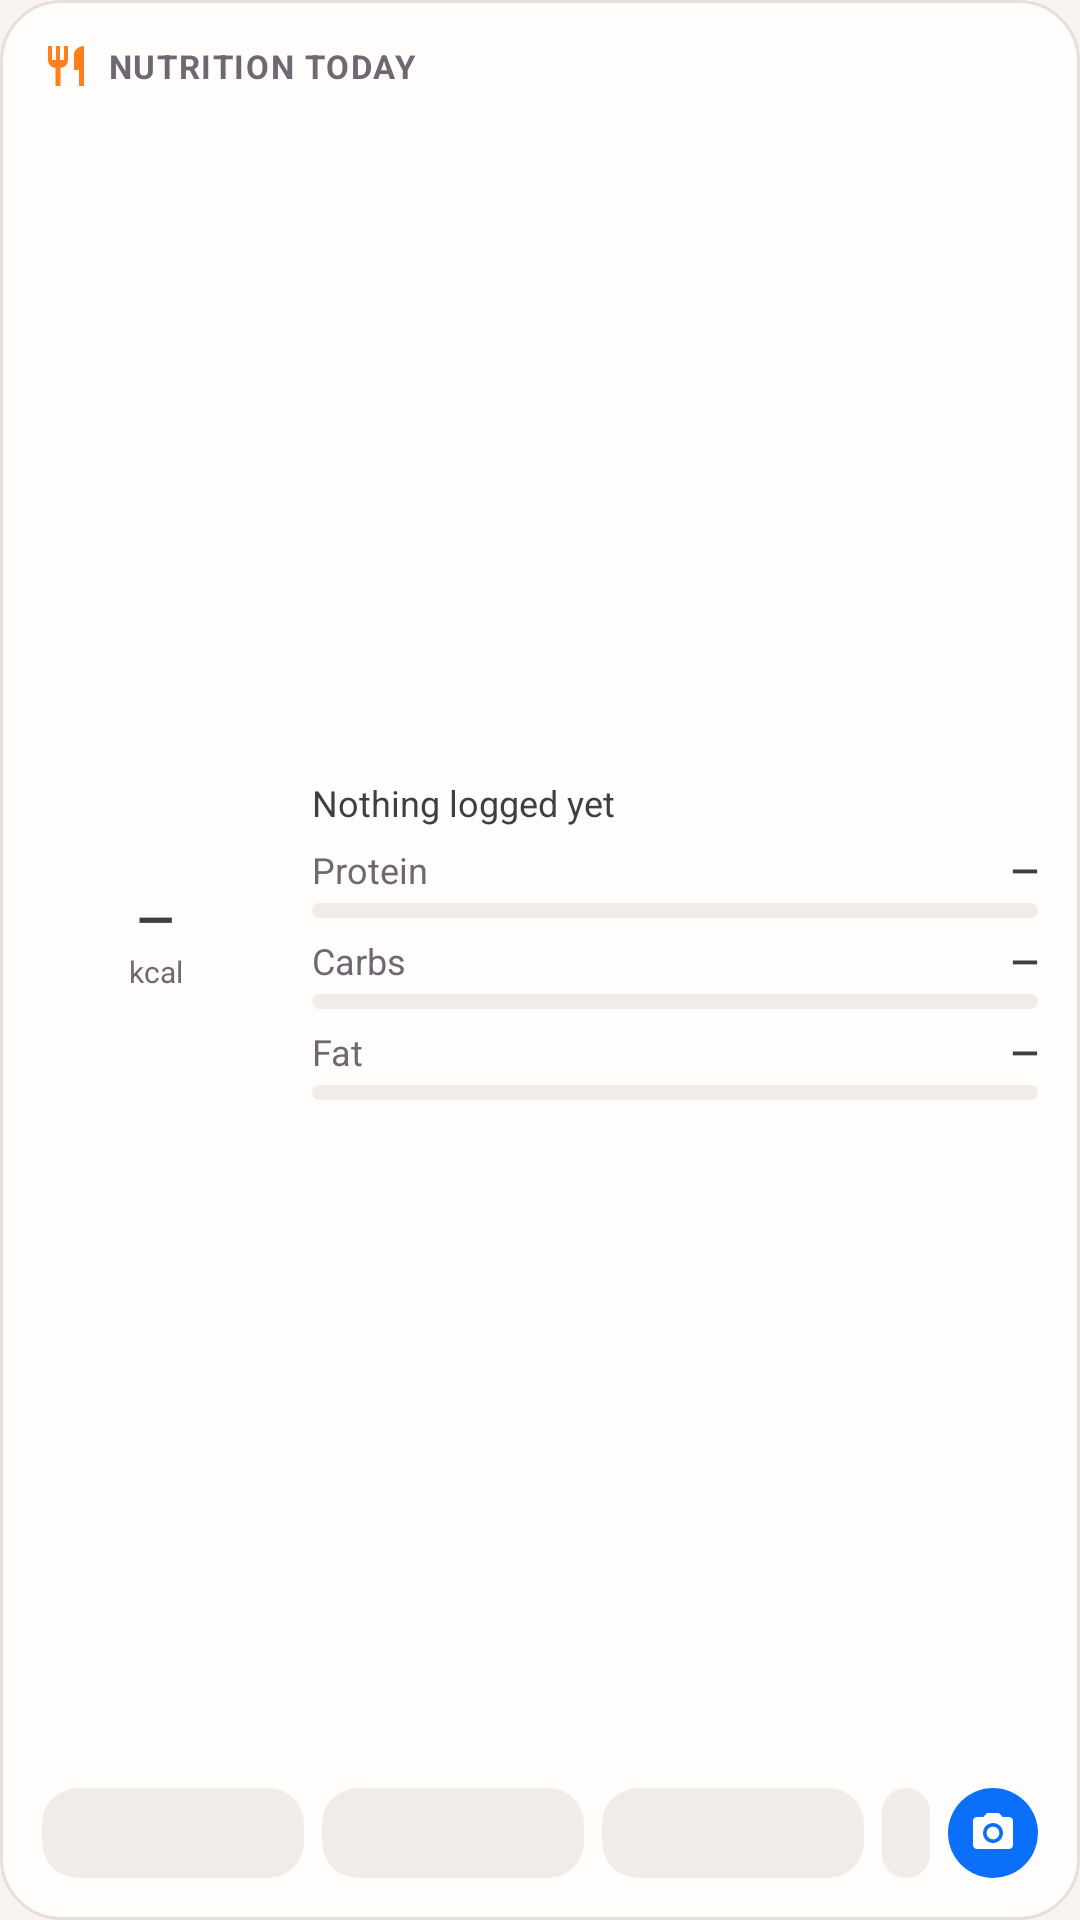

Locate icon controls on the screen. Image size 1080px x 1920px, boxes as (x1, y1, x2, y2).
Snap a meal: (948, 1788, 1038, 1878)
widget food: (48, 46, 84, 86)
